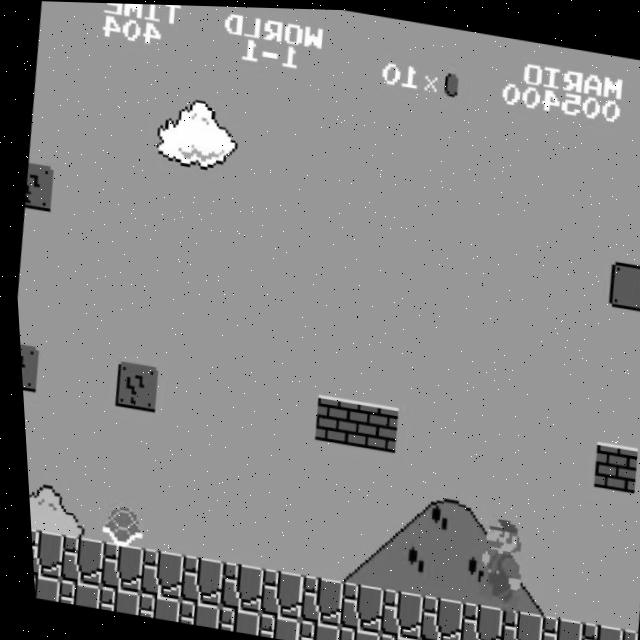0- big_mario: (466, 511, 526, 612)
1- brick_block: (306, 393, 356, 445), (586, 438, 635, 490), (347, 399, 396, 451)
13- mystery_block: (107, 360, 157, 412), (21, 162, 55, 212), (16, 343, 37, 392)
16- shell: (92, 498, 144, 551)
17- undestructible_block: (130, 547, 180, 600), (369, 586, 419, 638), (289, 573, 339, 625), (170, 554, 220, 606), (50, 534, 100, 586), (330, 580, 379, 632), (250, 567, 299, 619), (210, 560, 259, 612), (90, 541, 139, 593), (409, 592, 459, 640), (448, 599, 498, 640), (25, 528, 60, 580), (489, 606, 538, 640), (529, 612, 578, 640), (89, 586, 135, 615), (49, 580, 95, 609), (209, 605, 254, 634), (169, 599, 214, 628), (129, 592, 174, 621), (249, 612, 294, 640), (568, 619, 617, 640), (289, 618, 334, 640), (27, 573, 54, 602), (328, 625, 373, 640), (368, 631, 413, 640), (609, 625, 632, 640), (408, 638, 453, 640)
3- empty_block: (603, 258, 640, 309)
